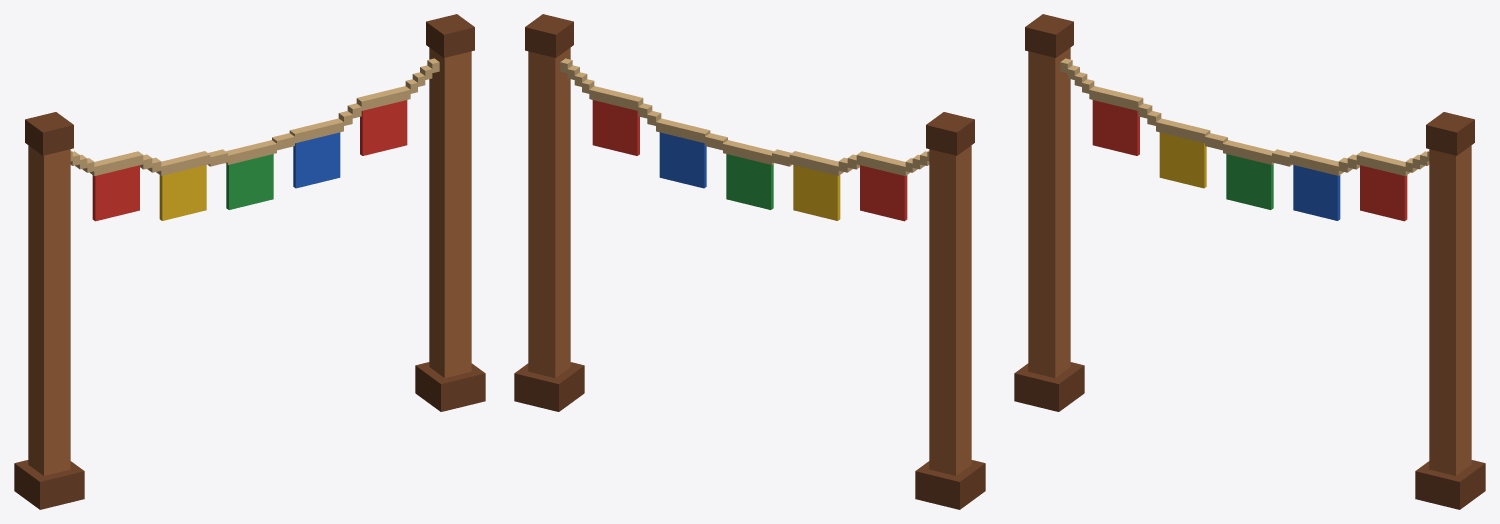
Rendered from Windswept_FlagPost.glb.
The picture shows the model from 3 angles, left to right: view 1: azimuth 30°, elevation 25°; view 2: azimuth 150°, elevation 25°; view 3: azimuth 330°, elevation 25°; orthographic projection.
Visible parts, largest first — view 1: Post_L, Post_R, Post_L_Foot, Post_R_Foot, Flags_Flag_1, Flags_Flag_3, Flags_Flag_2, Flags_Flag_4, Flags_Flag_5, Post_R_Cap, Post_L_Cap, Flags_Rope_15 (+4 smaller); view 2: Post_L, Post_R, Post_L_Foot, Post_R_Foot, Flags_Flag_1, Flags_Flag_3, Flags_Flag_2, Flags_Flag_4, Flags_Flag_5, Post_R_Cap, Post_L_Cap, Flags_Rope_15 (+4 smaller); view 3: Post_R, Post_L, Post_R_Foot, Post_L_Foot, Flags_Flag_3, Flags_Flag_5, Flags_Flag_4, Flags_Flag_2, Flags_Flag_1, Post_L_Cap, Post_R_Cap, Flags_Rope_5 (+4 smaller).
Part boxes in pixels (x1,y1,x2,y2): Post_L: (28, 145, 70, 475); Post_R: (429, 47, 471, 377); Post_L_Foot: (14, 460, 84, 509); Post_R_Foot: (415, 362, 485, 411); Flags_Flag_1: (92, 165, 139, 221); Flags_Flag_3: (226, 154, 273, 209); Flags_Flag_2: (159, 165, 206, 220); Flags_Flag_4: (293, 132, 340, 188); Flags_Flag_5: (360, 100, 407, 155); Post_R_Cap: (426, 14, 474, 57); Post_L_Cap: (25, 112, 73, 155); Flags_Rope_15: (356, 86, 410, 110); Post_L: (929, 145, 971, 475); Post_R: (528, 47, 570, 377); Post_L_Foot: (915, 460, 985, 509); Post_R_Foot: (514, 362, 584, 411); Flags_Flag_1: (860, 165, 907, 221); Flags_Flag_3: (726, 154, 773, 209); Flags_Flag_2: (793, 165, 840, 220); Flags_Flag_4: (659, 132, 706, 188); Flags_Flag_5: (592, 100, 639, 155); Post_R_Cap: (525, 14, 573, 57); Post_L_Cap: (926, 112, 974, 155); Flags_Rope_15: (589, 86, 643, 110); Post_R: (1429, 145, 1471, 475); Post_L: (1028, 47, 1070, 377); Post_R_Foot: (1415, 460, 1485, 509); Post_L_Foot: (1014, 362, 1084, 411); Flags_Flag_3: (1226, 154, 1273, 209); Flags_Flag_5: (1360, 165, 1407, 221); Flags_Flag_4: (1293, 165, 1340, 220); Flags_Flag_2: (1159, 132, 1206, 188); Flags_Flag_1: (1092, 100, 1139, 155); Post_L_Cap: (1025, 14, 1073, 57); Post_R_Cap: (1426, 112, 1474, 155); Flags_Rope_5: (1089, 86, 1143, 110).
Size of the model in its own units: 2 by 1.6 by 0.2.
